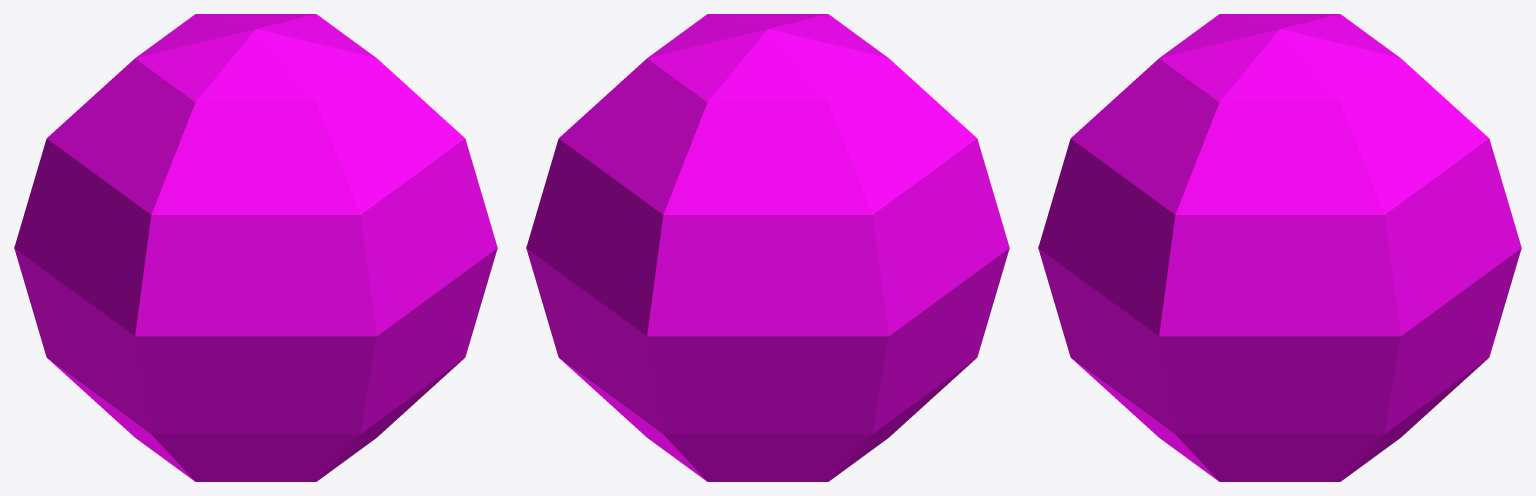
File: origin.obj
3 views of the same model, side by side, from view 1: azimuth 30°, elevation 25°; view 2: azimuth 150°, elevation 25°; view 3: azimuth 270°, elevation 25° (orthographic).
Visible parts, largest first — view 1: 球; view 2: 球; view 3: 球.
Part boxes in pixels (x1,y1,x2,y2): 球: (14, 14, 497, 481); 球: (526, 14, 1009, 481); 球: (1038, 14, 1521, 481).
Size of the model in its own units: 0.1732 by 0.2 by 0.2.
